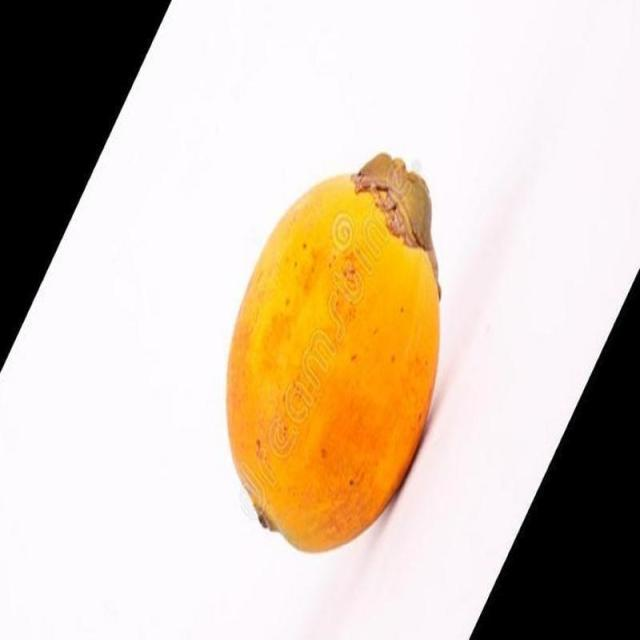good: (225, 155, 442, 556)
